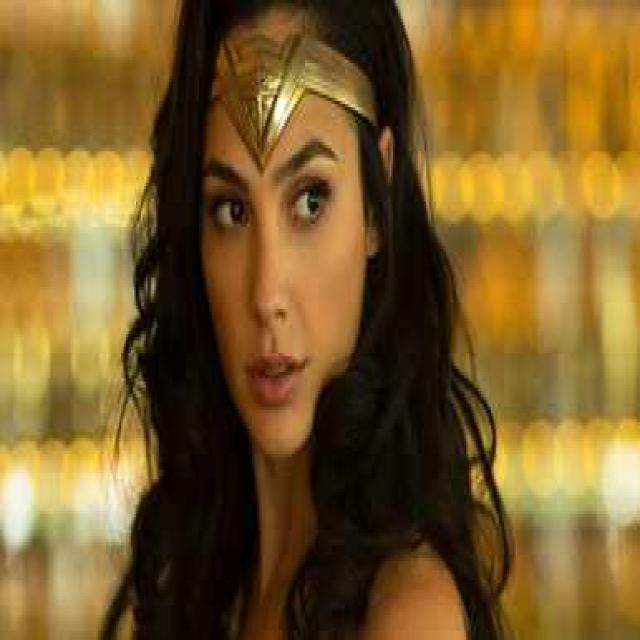mobile_phonerotation: (98, 0, 514, 637)
